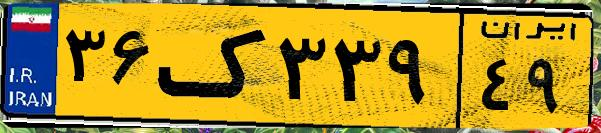3: (270, 28, 330, 110), (330, 28, 385, 110), (57, 26, 110, 100)
4: (475, 38, 525, 113)
6: (110, 28, 158, 98)
9: (385, 28, 445, 110), (525, 38, 570, 115)
ک: (158, 12, 270, 120)
